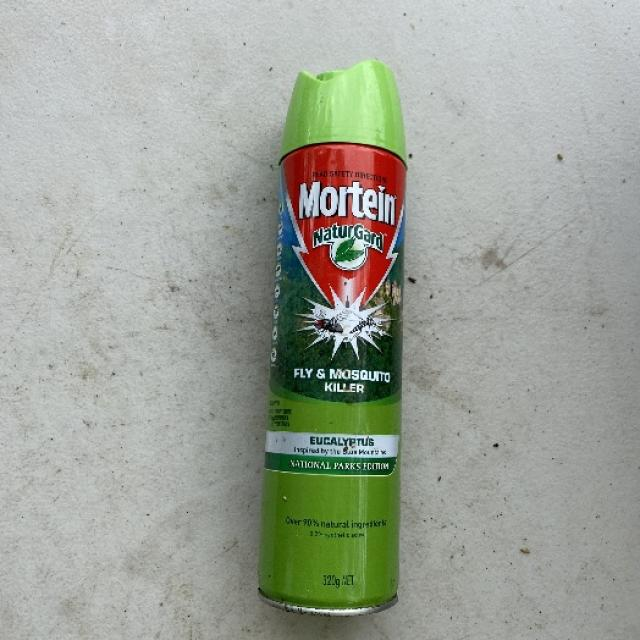metal: (255, 58, 408, 616)
